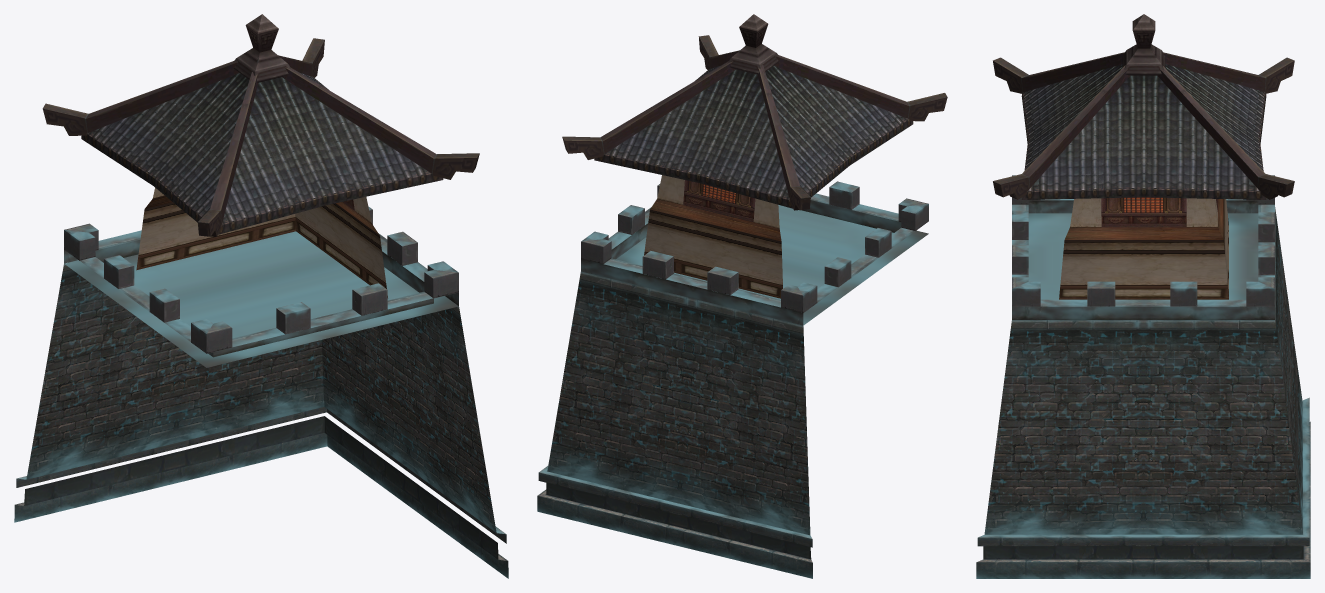
The model's file is chengqiang05.FBX.
3 views of the same model, side by side, from view 1: azimuth 30°, elevation 25°; view 2: azimuth 150°, elevation 25°; view 3: azimuth 270°, elevation 25° (orthographic). The views are drawn at different scales.
Visible parts, largest first — view 1: s7_city_new_zhuanjiao01, Objcvcvcvect02; view 2: s7_city_new_zhuanjiao01, Objcvcvcvect02; view 3: s7_city_new_zhuanjiao01, Objcvcvcvect02.
Part boxes in pixels (box(x1,y1,x2,y2)): s7_city_new_zhuanjiao01: box(14, 14, 508, 578); Objcvcvcvect02: box(81, 73, 443, 297); s7_city_new_zhuanjiao01: box(537, 14, 947, 578); Objcvcvcvect02: box(594, 66, 913, 298); s7_city_new_zhuanjiao01: box(976, 14, 1310, 578); Objcvcvcvect02: box(1021, 64, 1266, 299).
Size of the model in its own units: 14.88 by 24.38 by 14.93.
